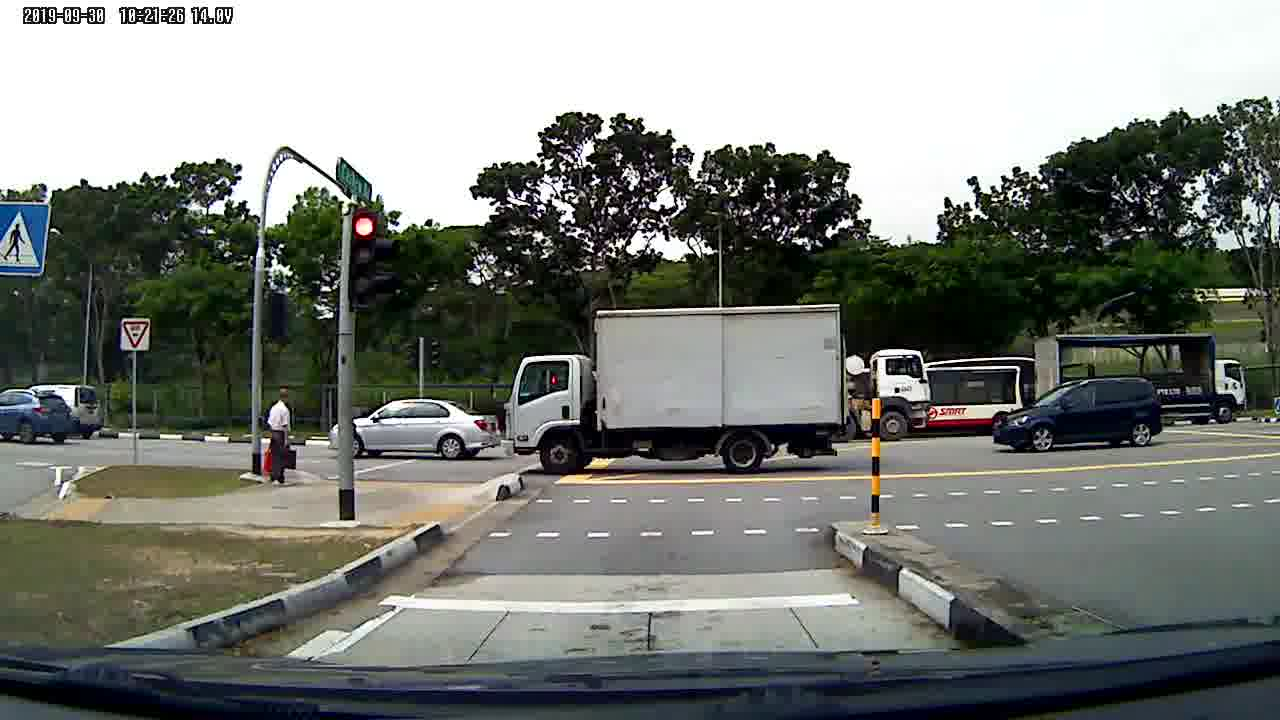bus: (924, 348, 1048, 444)
car: (990, 381, 1172, 461), (329, 398, 501, 462), (1, 389, 81, 446)
